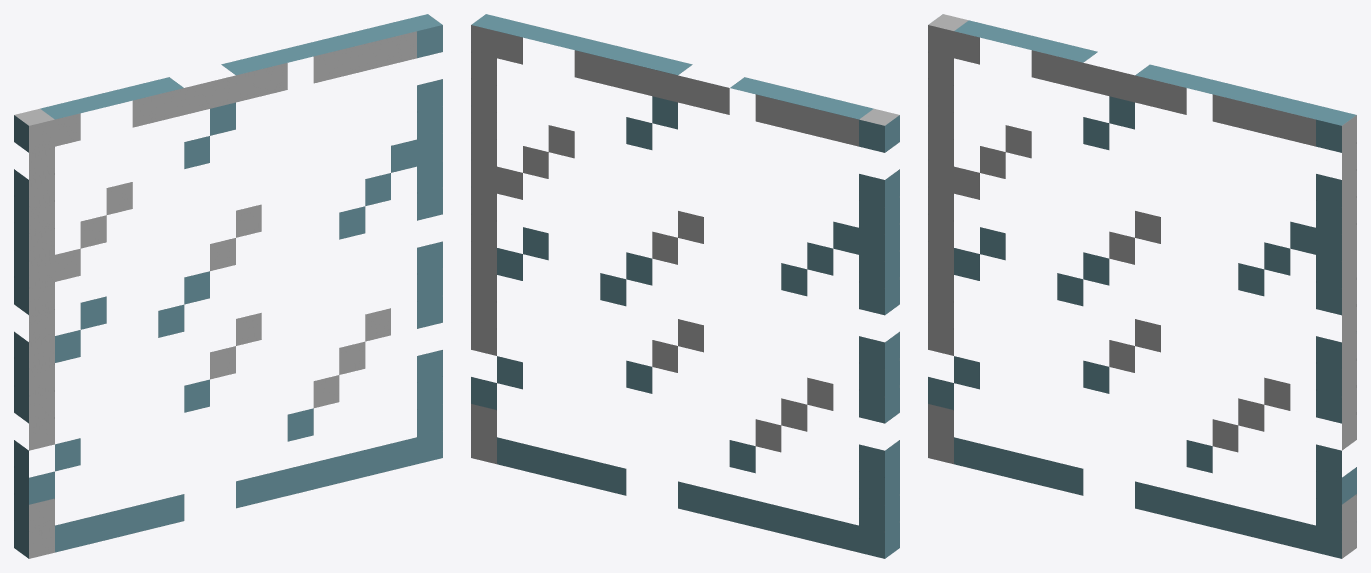
Rendered from glassPlane.gltf.
3 views of the same model, side by side, from view 1: azimuth 30°, elevation 25°; view 2: azimuth 150°, elevation 25°; view 3: azimuth 330°, elevation 25° (orthographic).
Visible parts, largest first — view 1: Box019; view 2: Box019; view 3: Box019.
Boxes of the visible parts, bbox=[...] form: Box019: bbox=[14, 14, 442, 558]; Box019: bbox=[471, 14, 899, 558]; Box019: bbox=[928, 14, 1356, 558].
Size of the model in its own units: 0.5 by 0.5 by 0.0313.
Materials: 1 (1 with a texture image).
